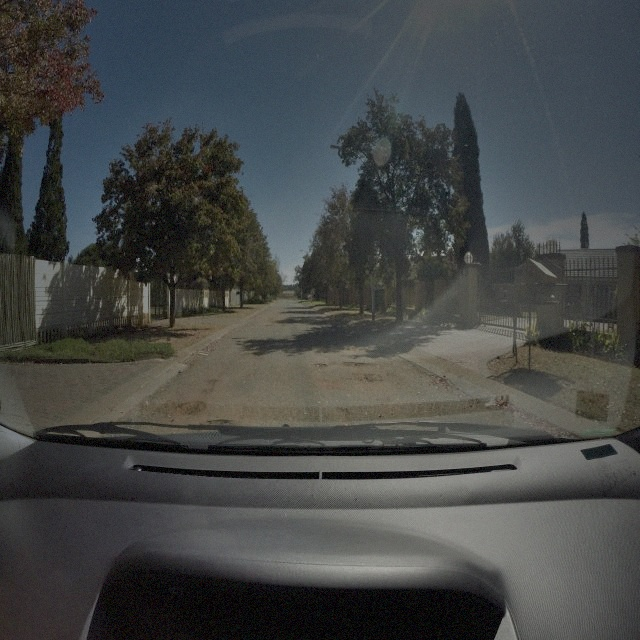pothole: (174, 398, 209, 419), (352, 371, 382, 385), (427, 374, 450, 391), (346, 344, 369, 354), (342, 360, 365, 367), (316, 362, 328, 369)
